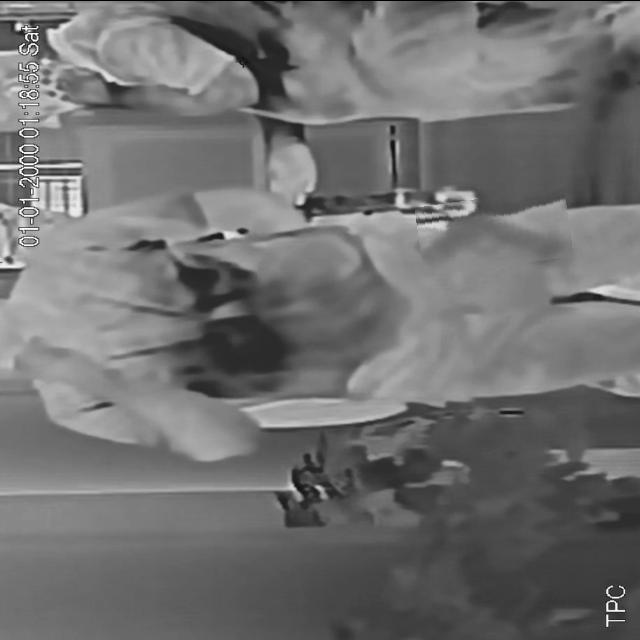Weapon: (416, 191, 571, 271)
